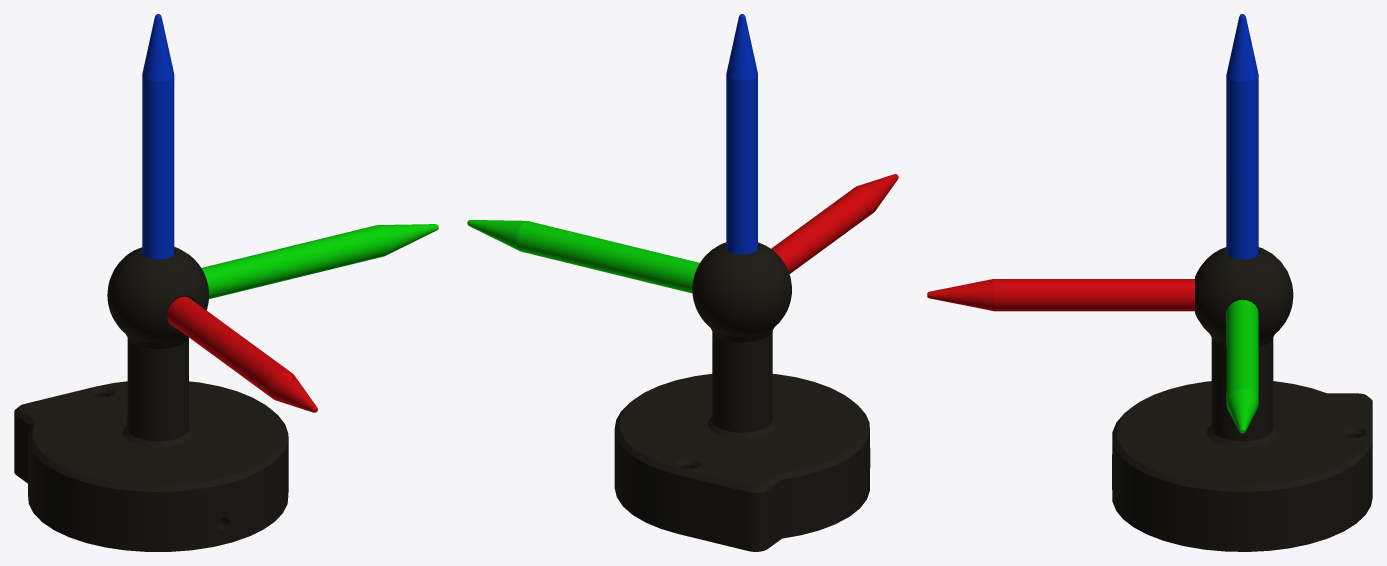
Rendered from gripperXYZ.dae.
3 views of the same model, side by side, from view 1: azimuth 30°, elevation 25°; view 2: azimuth 150°, elevation 25°; view 3: azimuth 270°, elevation 25° (orthographic). The views are drawn at different scales.
Parts seen in each view (by area): view 1: Body1008_1, Body1008, Body1008_2, Body1008_3; view 2: Body1008_1, Body1008, Body1008_2, Body1008_3; view 3: Body1008_1, Body1008_3, Body1008, Body1008_2.
Part boxes in pixels (x1,y1,x2,y2): Body1008_1: [14, 247, 288, 551]; Body1008: [142, 14, 174, 259]; Body1008_2: [201, 224, 438, 298]; Body1008_3: [167, 296, 317, 412]; Body1008_1: [614, 242, 870, 551]; Body1008: [726, 14, 757, 254]; Body1008_2: [467, 220, 699, 293]; Body1008_3: [771, 174, 898, 273]; Body1008_1: [1112, 247, 1372, 551]; Body1008_3: [927, 279, 1194, 311]; Body1008: [1226, 14, 1258, 259]; Body1008_2: [1226, 299, 1258, 433].
Bounding box in the file's own units: 0.0956 × 0.1122 × 0.094.
